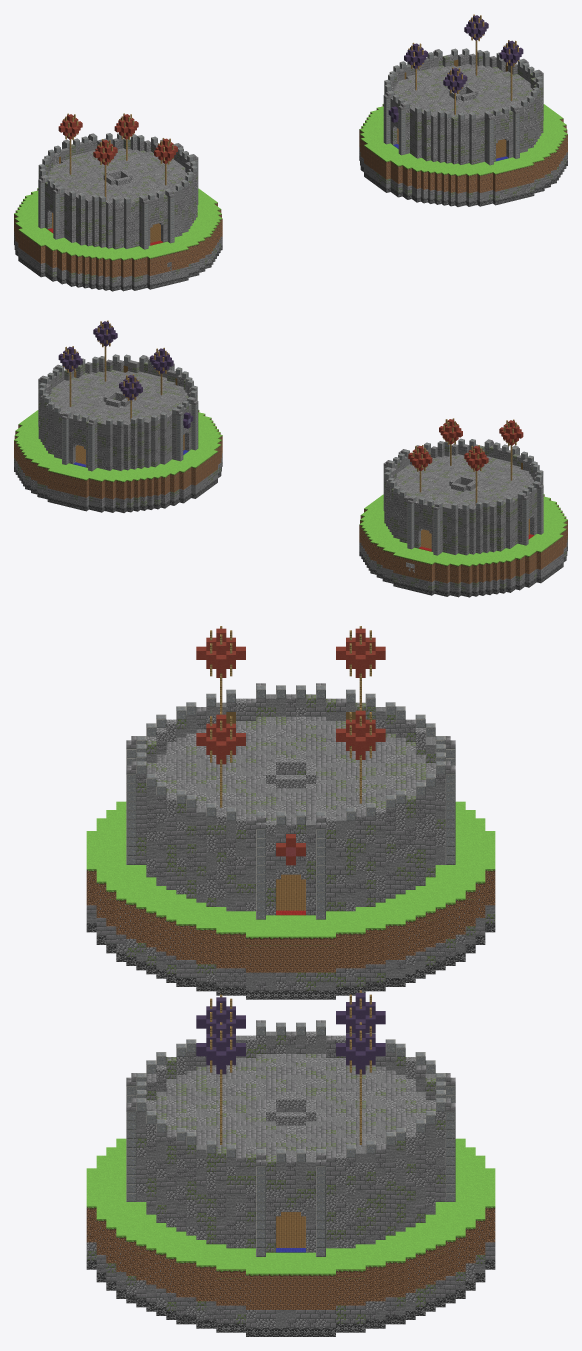
Rendered from minecraft.obj.
The picture shows the model from 3 angles, top to bottom: view 1: azimuth 30°, elevation 25°; view 2: azimuth 150°, elevation 25°; view 3: azimuth 270°, elevation 25°; orthographic projection. The views are drawn at different scales.
Size of the model in its own units: 121 by 28 by 41.
